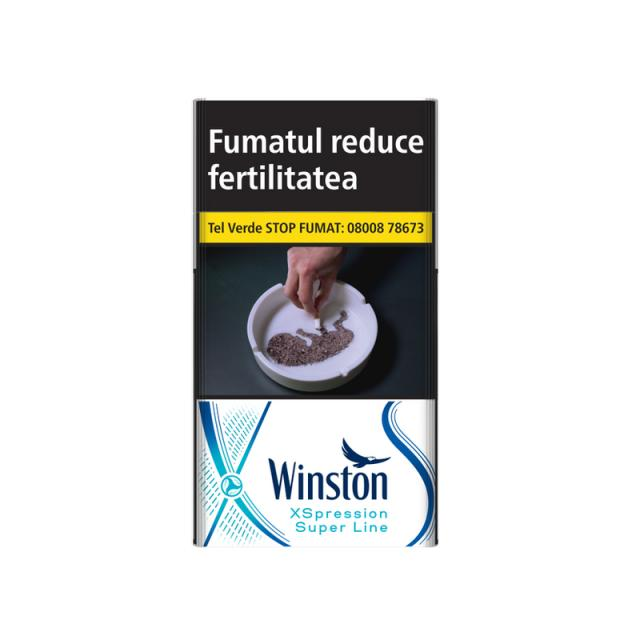winston: (186, 84, 450, 563)
